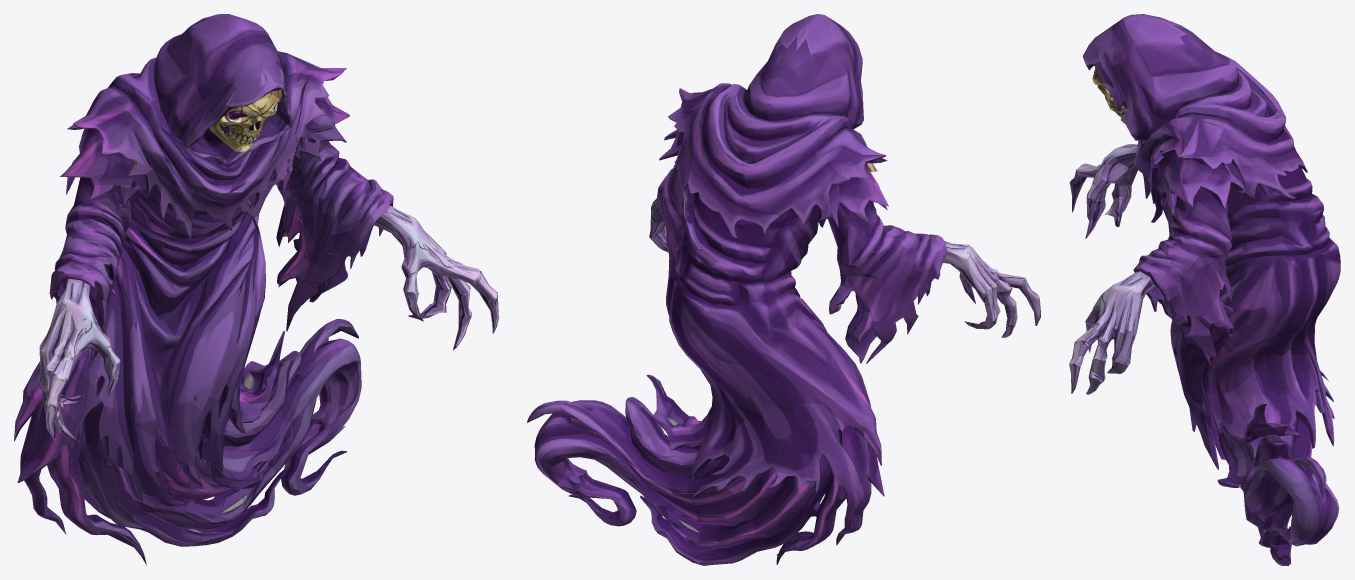
3 renders of one model, left to right at view 1: azimuth 30°, elevation 25°; view 2: azimuth 150°, elevation 25°; view 3: azimuth 270°, elevation 25°, orthographic. The views are drawn at different scales.
Bounding box in the file's own units: 1.53 × 1.9 × 0.9246.
Materials: 1 (1 with a texture image).
